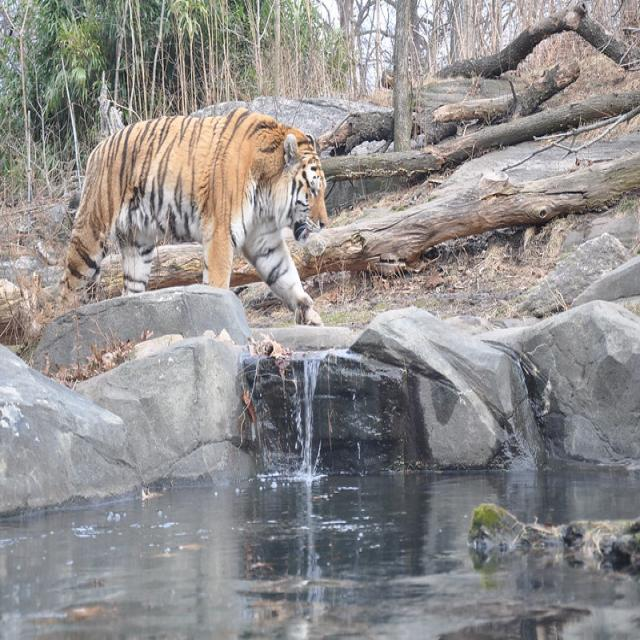Tiger: (58, 104, 326, 326)
